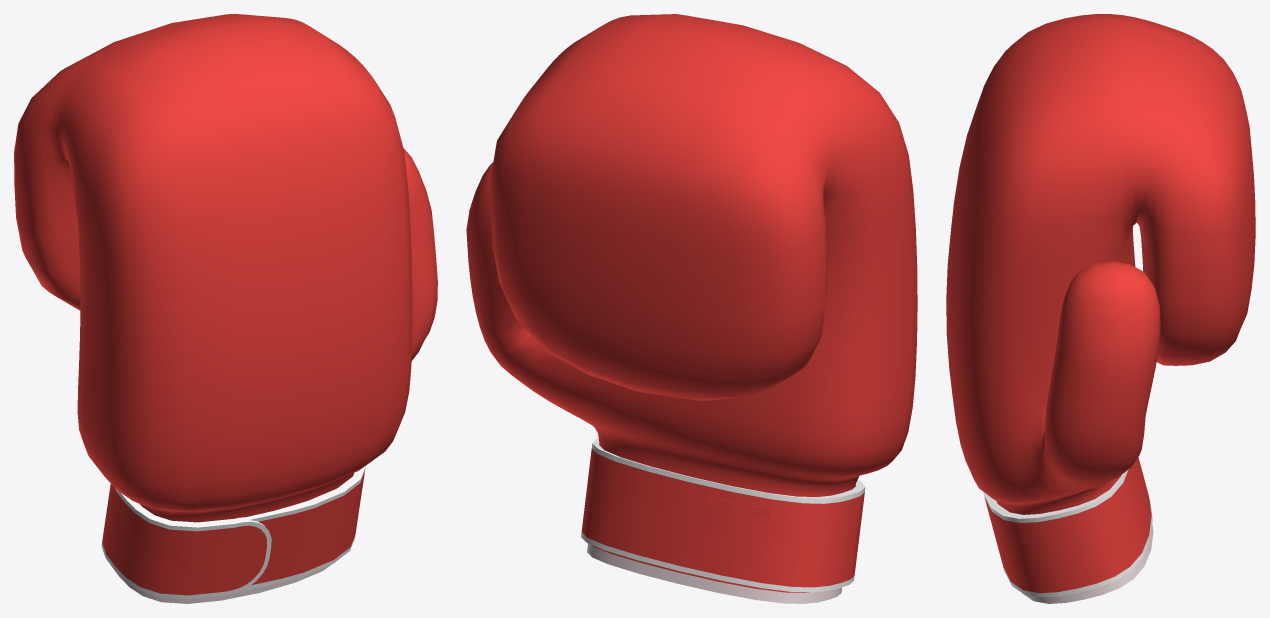
File: boxing_glove.fbx
The picture shows the model from 3 angles, left to right: view 1: azimuth 30°, elevation 25°; view 2: azimuth 150°, elevation 25°; view 3: azimuth 270°, elevation 25°; orthographic projection. The views are drawn at different scales.
Parts seen in each view (by area): view 1: Cube.825; view 2: Cube.825; view 3: Cube.825.
Boxes of the visible parts, box(x1,y1,x2,y2) form: Cube.825: box(14, 14, 437, 603); Cube.825: box(466, 14, 917, 603); Cube.825: box(946, 14, 1255, 603).
Bounding box in the file's own units: 168 × 234 × 126.
Materials: 1 (1 with a texture image).
